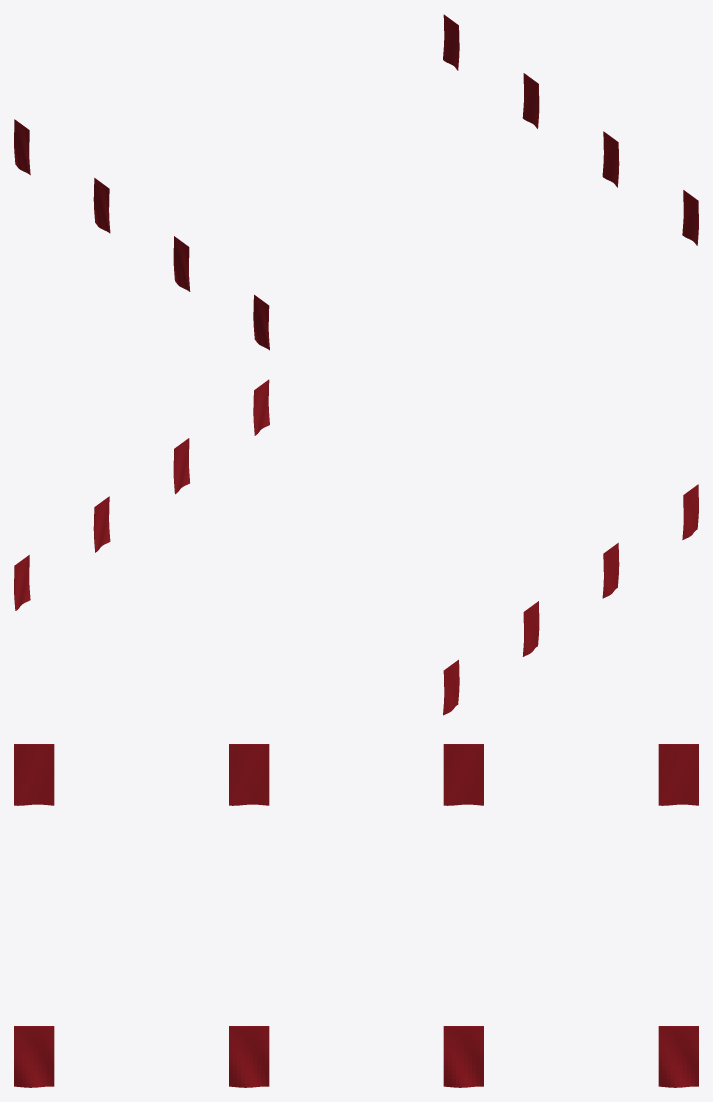
File: Banners.fbx
The picture shows the model from 3 angles, top to bottom: view 1: azimuth 30°, elevation 25°; view 2: azimuth 150°, elevation 25°; view 3: azimuth 270°, elevation 25°; orthographic projection. The views are drawn at different scales.
Parts seen in each view (by area): view 1: Banner-1_24.001; view 2: Banner-1_24.001; view 3: Banner-1_24.001.
Boxes of the visible parts, <box> form: Banner-1_24.001: <box>14,14,698,350</box>; Banner-1_24.001: <box>14,379,698,715</box>; Banner-1_24.001: <box>14,744,698,1087</box>.
Bounding box in the file's own units: 14990 × 1501 × 15304.
